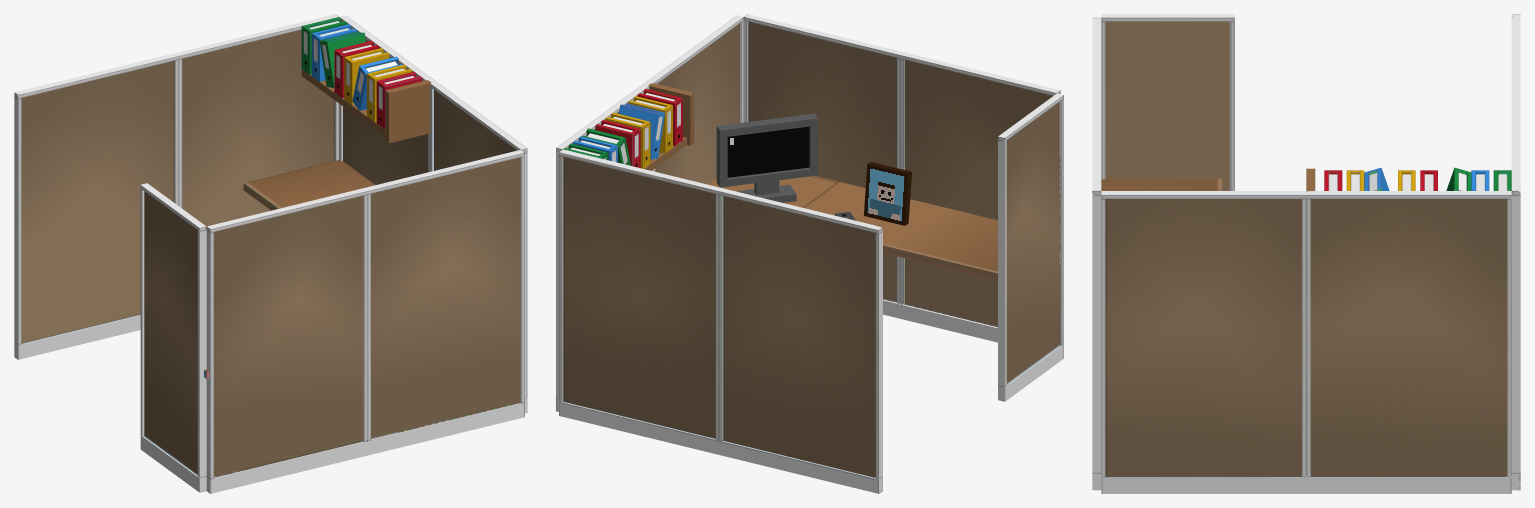
Rendered from Bunka.fbx.
3 renders of one model, left to right at view 1: azimuth 30°, elevation 25°; view 2: azimuth 150°, elevation 25°; view 3: azimuth 270°, elevation 25°, orthographic. The views are drawn at different scales.
Parts seen in each view (by area): view 1: cube_25, cube_24, cube_23, cube_22, cube_26, cube_4, cube_28, cube_30, cube_27, cube_17, cube_34, cube_16 (+16 smaller); view 2: cube_23, cube_22, cube_24, cube_25, cube_26, cube_29, cube_27, cube_3, cube_41, cube_16, cube_85, cube_17 (+19 smaller); view 3: cube_27, cube_28, cube_26, cube_2, cube_20, cube_7, cube_13, cube_16, cube_17, cube_29, cube_14, cube_15 (+5 smaller).
Part boxes in pixels (x1,y1,x2,y2): cube_25: (371, 157, 520, 439); cube_24: (214, 196, 363, 477); cube_23: (21, 61, 174, 343); cube_22: (182, 29, 334, 229); cube_26: (144, 191, 199, 474); cube_4: (206, 402, 524, 493); cube_28: (343, 40, 428, 184); cube_30: (243, 160, 375, 210); cube_27: (434, 90, 520, 170); cube_17: (206, 150, 524, 232); cube_34: (385, 80, 431, 143); cube_16: (14, 14, 338, 98); cube_23: (723, 196, 878, 477); cube_22: (563, 157, 715, 438); cube_24: (904, 60, 1056, 327); cube_25: (748, 21, 896, 302); cube_26: (1004, 101, 1060, 383); cube_29: (804, 182, 997, 280); cube_27: (655, 23, 739, 184); cube_3: (559, 401, 882, 493); cube_41: (727, 126, 809, 177); cube_16: (559, 149, 882, 233); cube_85: (863, 162, 911, 225); cube_17: (743, 14, 1060, 95); cube_27: (1105, 199, 1301, 476); cube_28: (1311, 199, 1507, 476); cube_26: (1105, 21, 1230, 190); cube_2: (1101, 476, 1511, 493); cube_20: (1101, 191, 1511, 198); cube_7: (1511, 194, 1520, 473); cube_13: (1092, 194, 1101, 473); cube_16: (1511, 14, 1520, 195); cube_17: (1092, 17, 1101, 195); cube_29: (1101, 178, 1222, 190); cube_14: (1507, 195, 1511, 477); cube_15: (1101, 199, 1105, 477).
Size of the model in its own units: 300 by 233 by 300.
8 materials, 8 textured.
